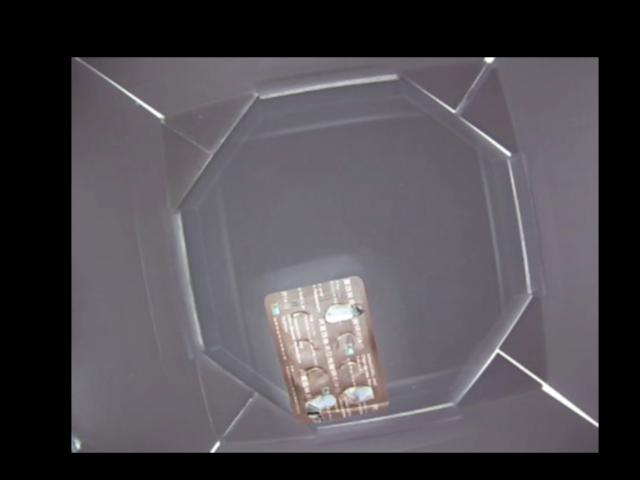Medicine: (261, 274, 389, 426)
